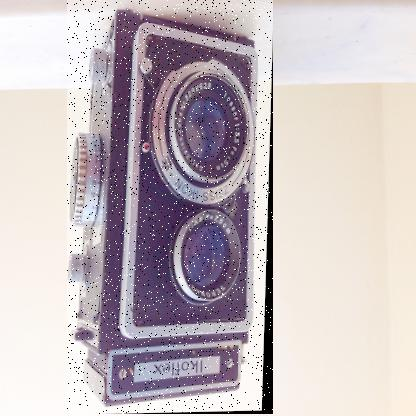Camera: (68, 1, 275, 416)
